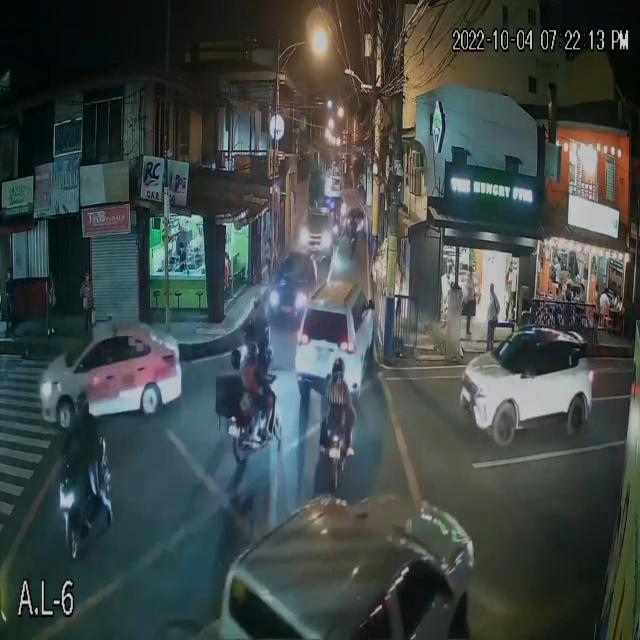Full-Faced: (331, 358, 348, 383), (245, 340, 261, 366), (253, 290, 264, 310)
